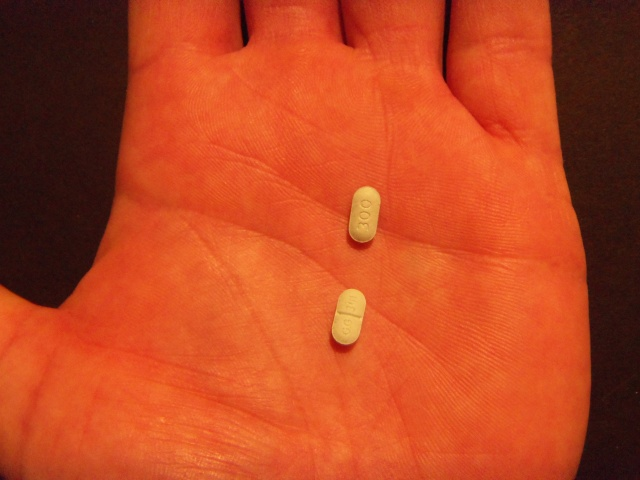0: (359, 198, 373, 211), (360, 210, 372, 221)
3: (355, 220, 371, 232)
|: (334, 306, 366, 324)
